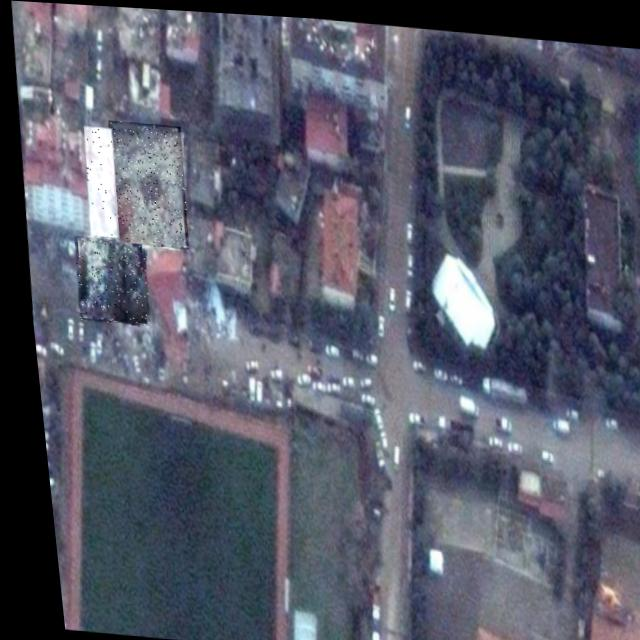Rubble: (101, 119, 188, 247), (66, 235, 146, 324), (77, 124, 118, 237)
